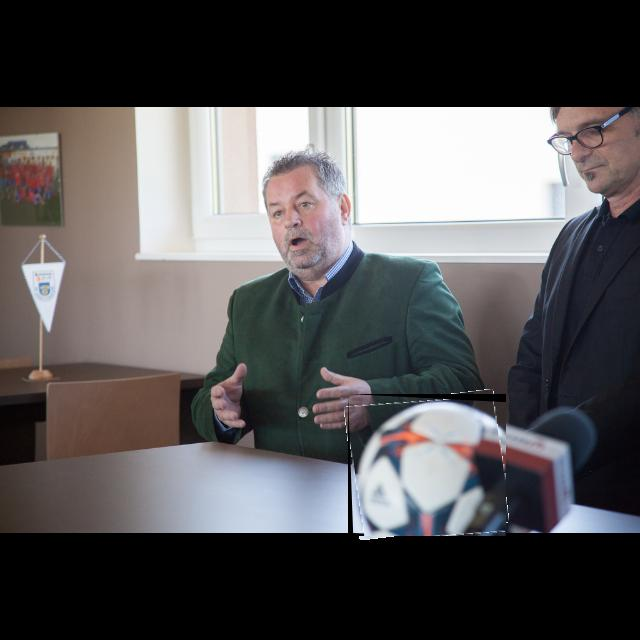Football: (348, 394, 506, 536)
